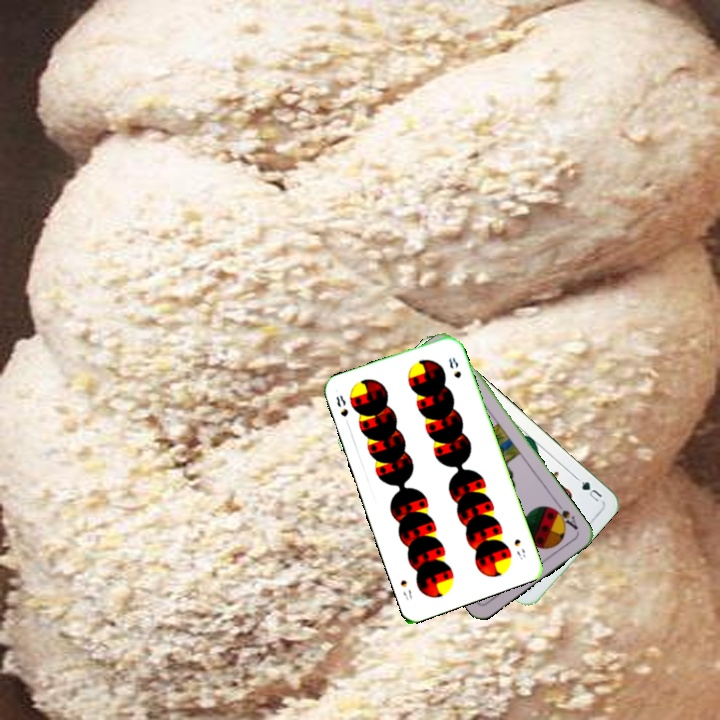GU: (572, 473, 605, 504)
S8: (332, 391, 351, 419), (510, 535, 528, 562)
SA: (547, 503, 581, 532)
